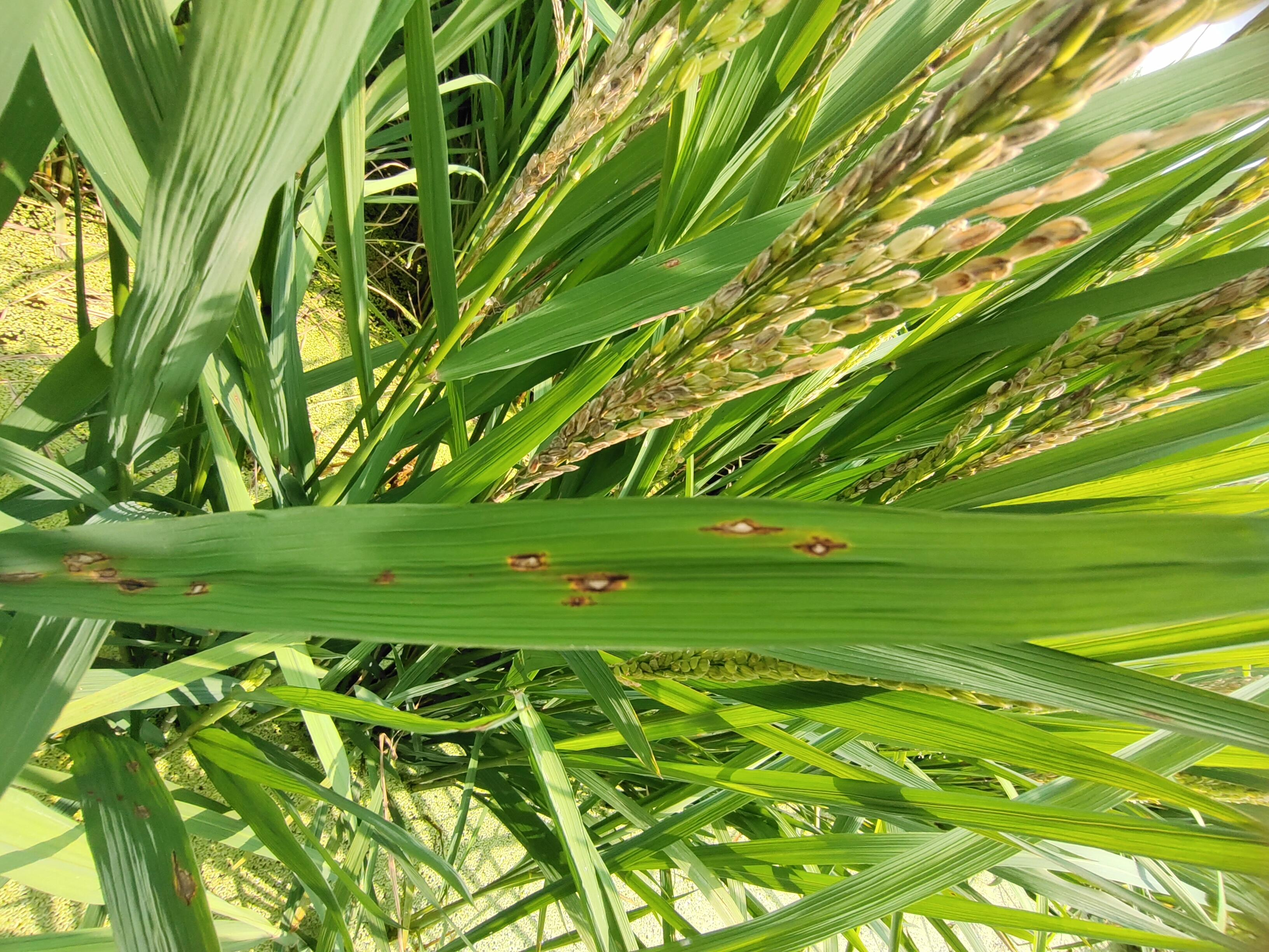LEAF: (0, 497, 1269, 655)
LEAF BLAST: (701, 518, 783, 536), (565, 572, 629, 592), (793, 536, 848, 557), (63, 552, 108, 572), (507, 553, 549, 571), (117, 579, 154, 592), (0, 571, 42, 582), (561, 595, 595, 607), (185, 581, 209, 596), (90, 568, 117, 581)
